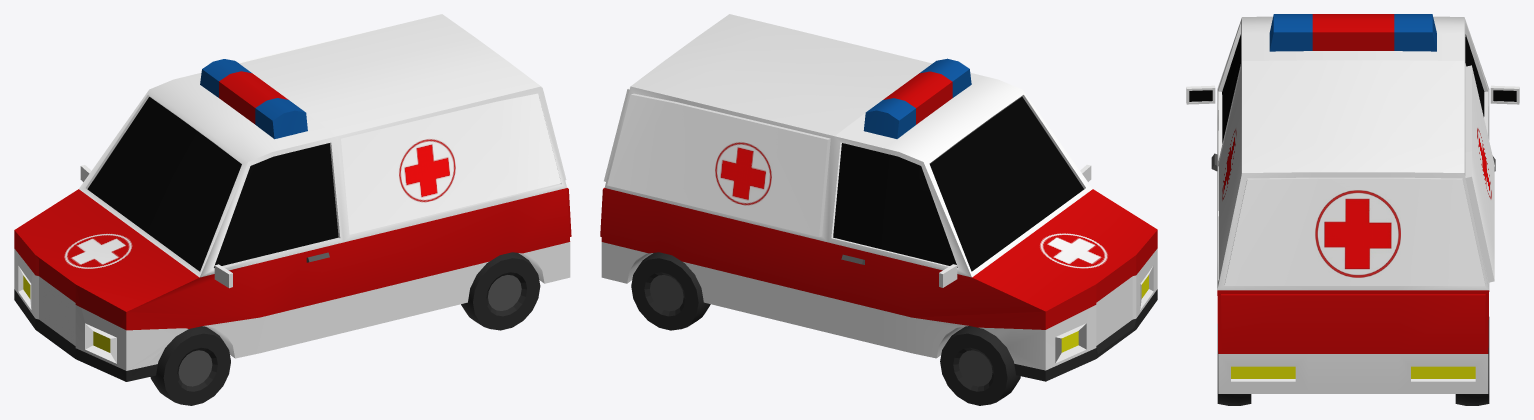
The model's file is Car 5.FBX.
The picture shows the model from 3 angles, left to right: view 1: azimuth 30°, elevation 25°; view 2: azimuth 150°, elevation 25°; view 3: azimuth 270°, elevation 25°; orthographic projection. The views are drawn at different scales.
Parts seen in each view (by area): view 1: Car 5; view 2: Car 5; view 3: Car 5.
Boxes of the visible parts, x1,y1,x2,y2 form: Car 5: [14, 14, 571, 405]; Car 5: [600, 14, 1157, 405]; Car 5: [1186, 14, 1519, 405].
Size of the model in its own units: 10.63 by 5.49 by 5.97.
1 material, 1 textured.
